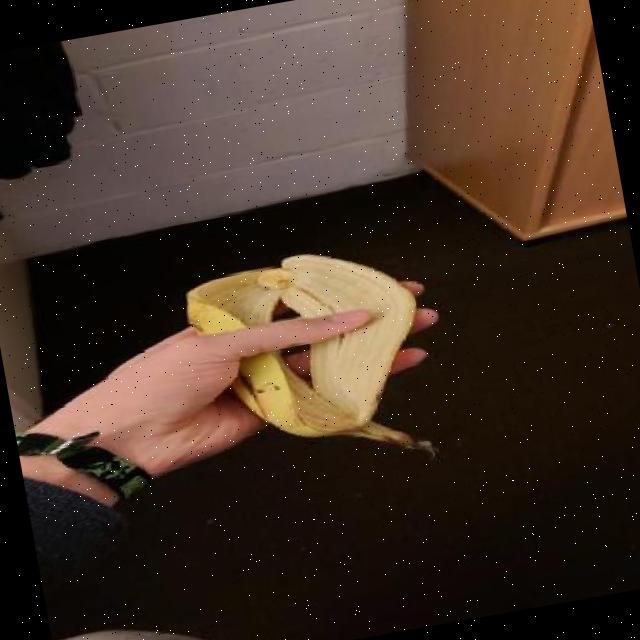banana-peel: (177, 232, 446, 498)
